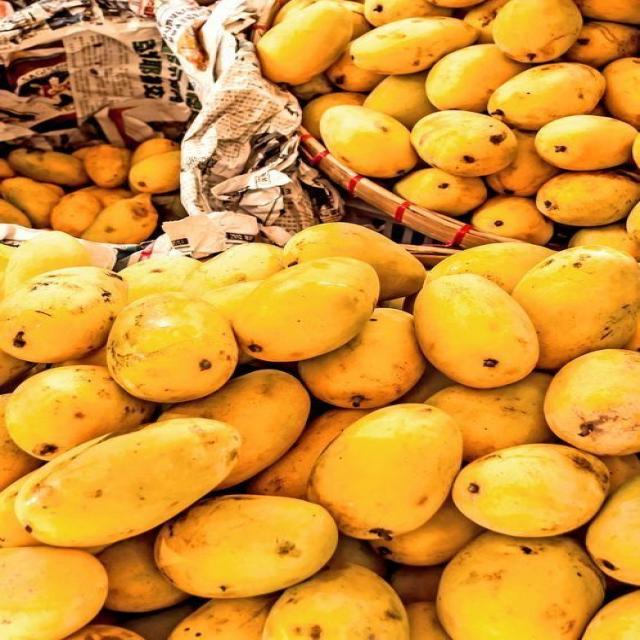mango: (16, 419, 240, 546), (309, 405, 462, 539), (156, 495, 337, 598), (437, 533, 604, 639), (160, 370, 309, 488), (513, 246, 639, 369), (233, 257, 380, 361), (453, 444, 609, 537), (108, 292, 237, 402), (414, 274, 538, 388), (6, 366, 154, 460), (299, 309, 425, 408), (0, 267, 127, 362), (426, 372, 553, 461), (247, 409, 371, 499), (285, 222, 425, 300), (263, 565, 408, 639), (545, 350, 639, 455), (0, 547, 106, 639), (258, 0, 353, 85), (489, 63, 605, 129), (371, 499, 483, 565), (98, 530, 188, 612), (350, 17, 478, 74), (320, 105, 417, 178), (426, 44, 529, 112), (412, 111, 517, 176), (428, 243, 555, 293), (536, 170, 639, 226), (3, 232, 92, 296), (587, 477, 639, 585), (535, 115, 637, 170), (493, 0, 582, 63), (183, 243, 286, 297), (485, 130, 560, 196), (394, 168, 487, 216), (169, 597, 275, 639), (363, 72, 436, 129), (471, 196, 553, 244), (81, 193, 158, 244), (0, 395, 41, 489), (120, 256, 200, 302), (565, 22, 638, 68), (0, 472, 41, 547), (0, 177, 60, 227), (303, 92, 366, 139), (8, 149, 88, 186), (121, 601, 197, 639), (583, 591, 639, 639), (201, 280, 262, 323), (326, 535, 388, 577), (569, 223, 639, 260), (326, 49, 385, 92), (603, 58, 639, 128), (51, 190, 104, 237), (396, 362, 454, 403), (364, 0, 452, 26), (389, 565, 445, 604), (129, 151, 181, 193), (83, 145, 131, 188), (464, 0, 508, 43), (407, 602, 450, 639), (575, 0, 639, 24), (601, 454, 639, 494), (337, 0, 371, 39), (132, 138, 179, 166), (288, 73, 335, 101), (0, 351, 33, 387), (79, 186, 133, 208), (66, 624, 143, 639), (53, 345, 106, 366), (0, 199, 32, 227), (626, 202, 639, 242), (432, 0, 481, 8), (0, 158, 16, 180), (633, 134, 639, 168)
